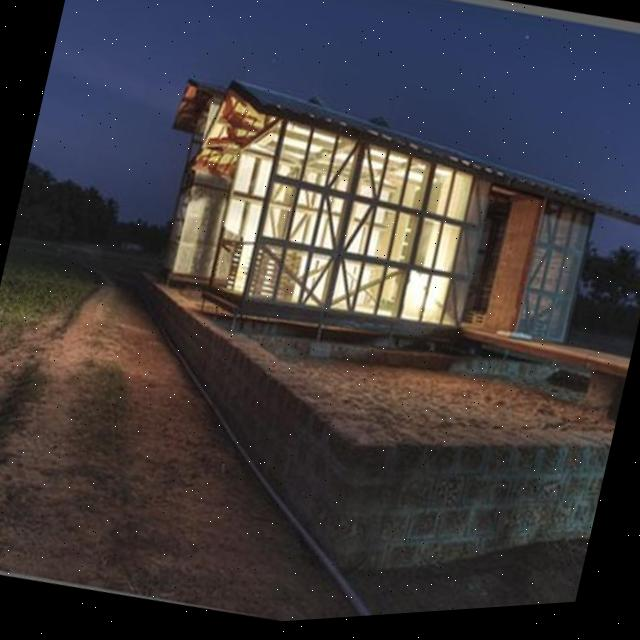building: (126, 34, 640, 405)
